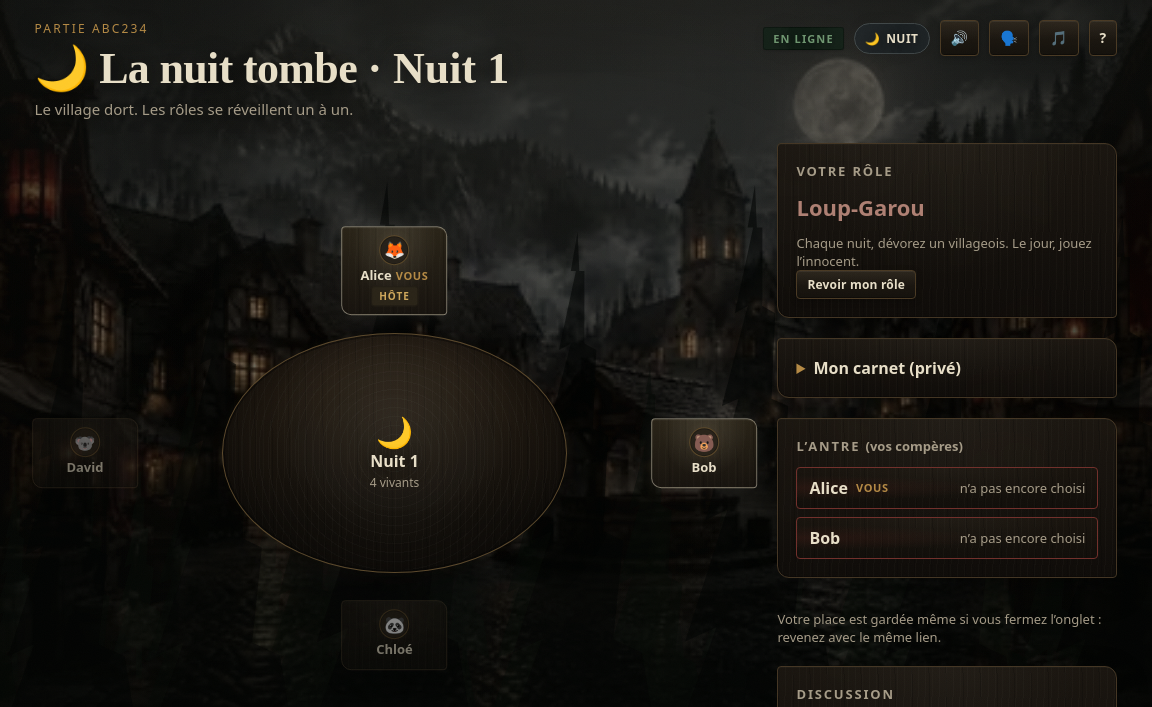
Test case: Game › ouvre l’antre au loup, avec ses compères et une confirmation
Expected: the heading "L’antre (vos compères)" is shown, [796,436,963,454]
Step 1. Click the button with aria-label "Dévorer Chloé" → click(394, 635), box [342,601,447,670]
(page scrolled)
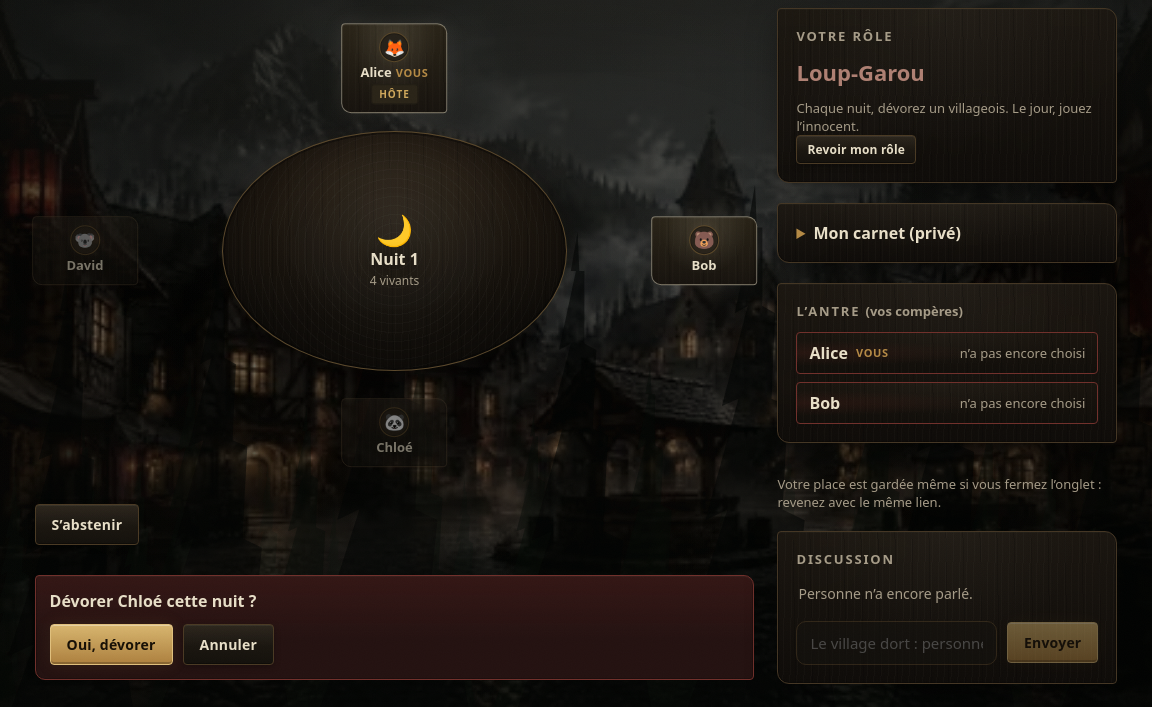
Now the text "Dévorer Chloé cette nuit ?" is shown, box [50,590,256,612]
